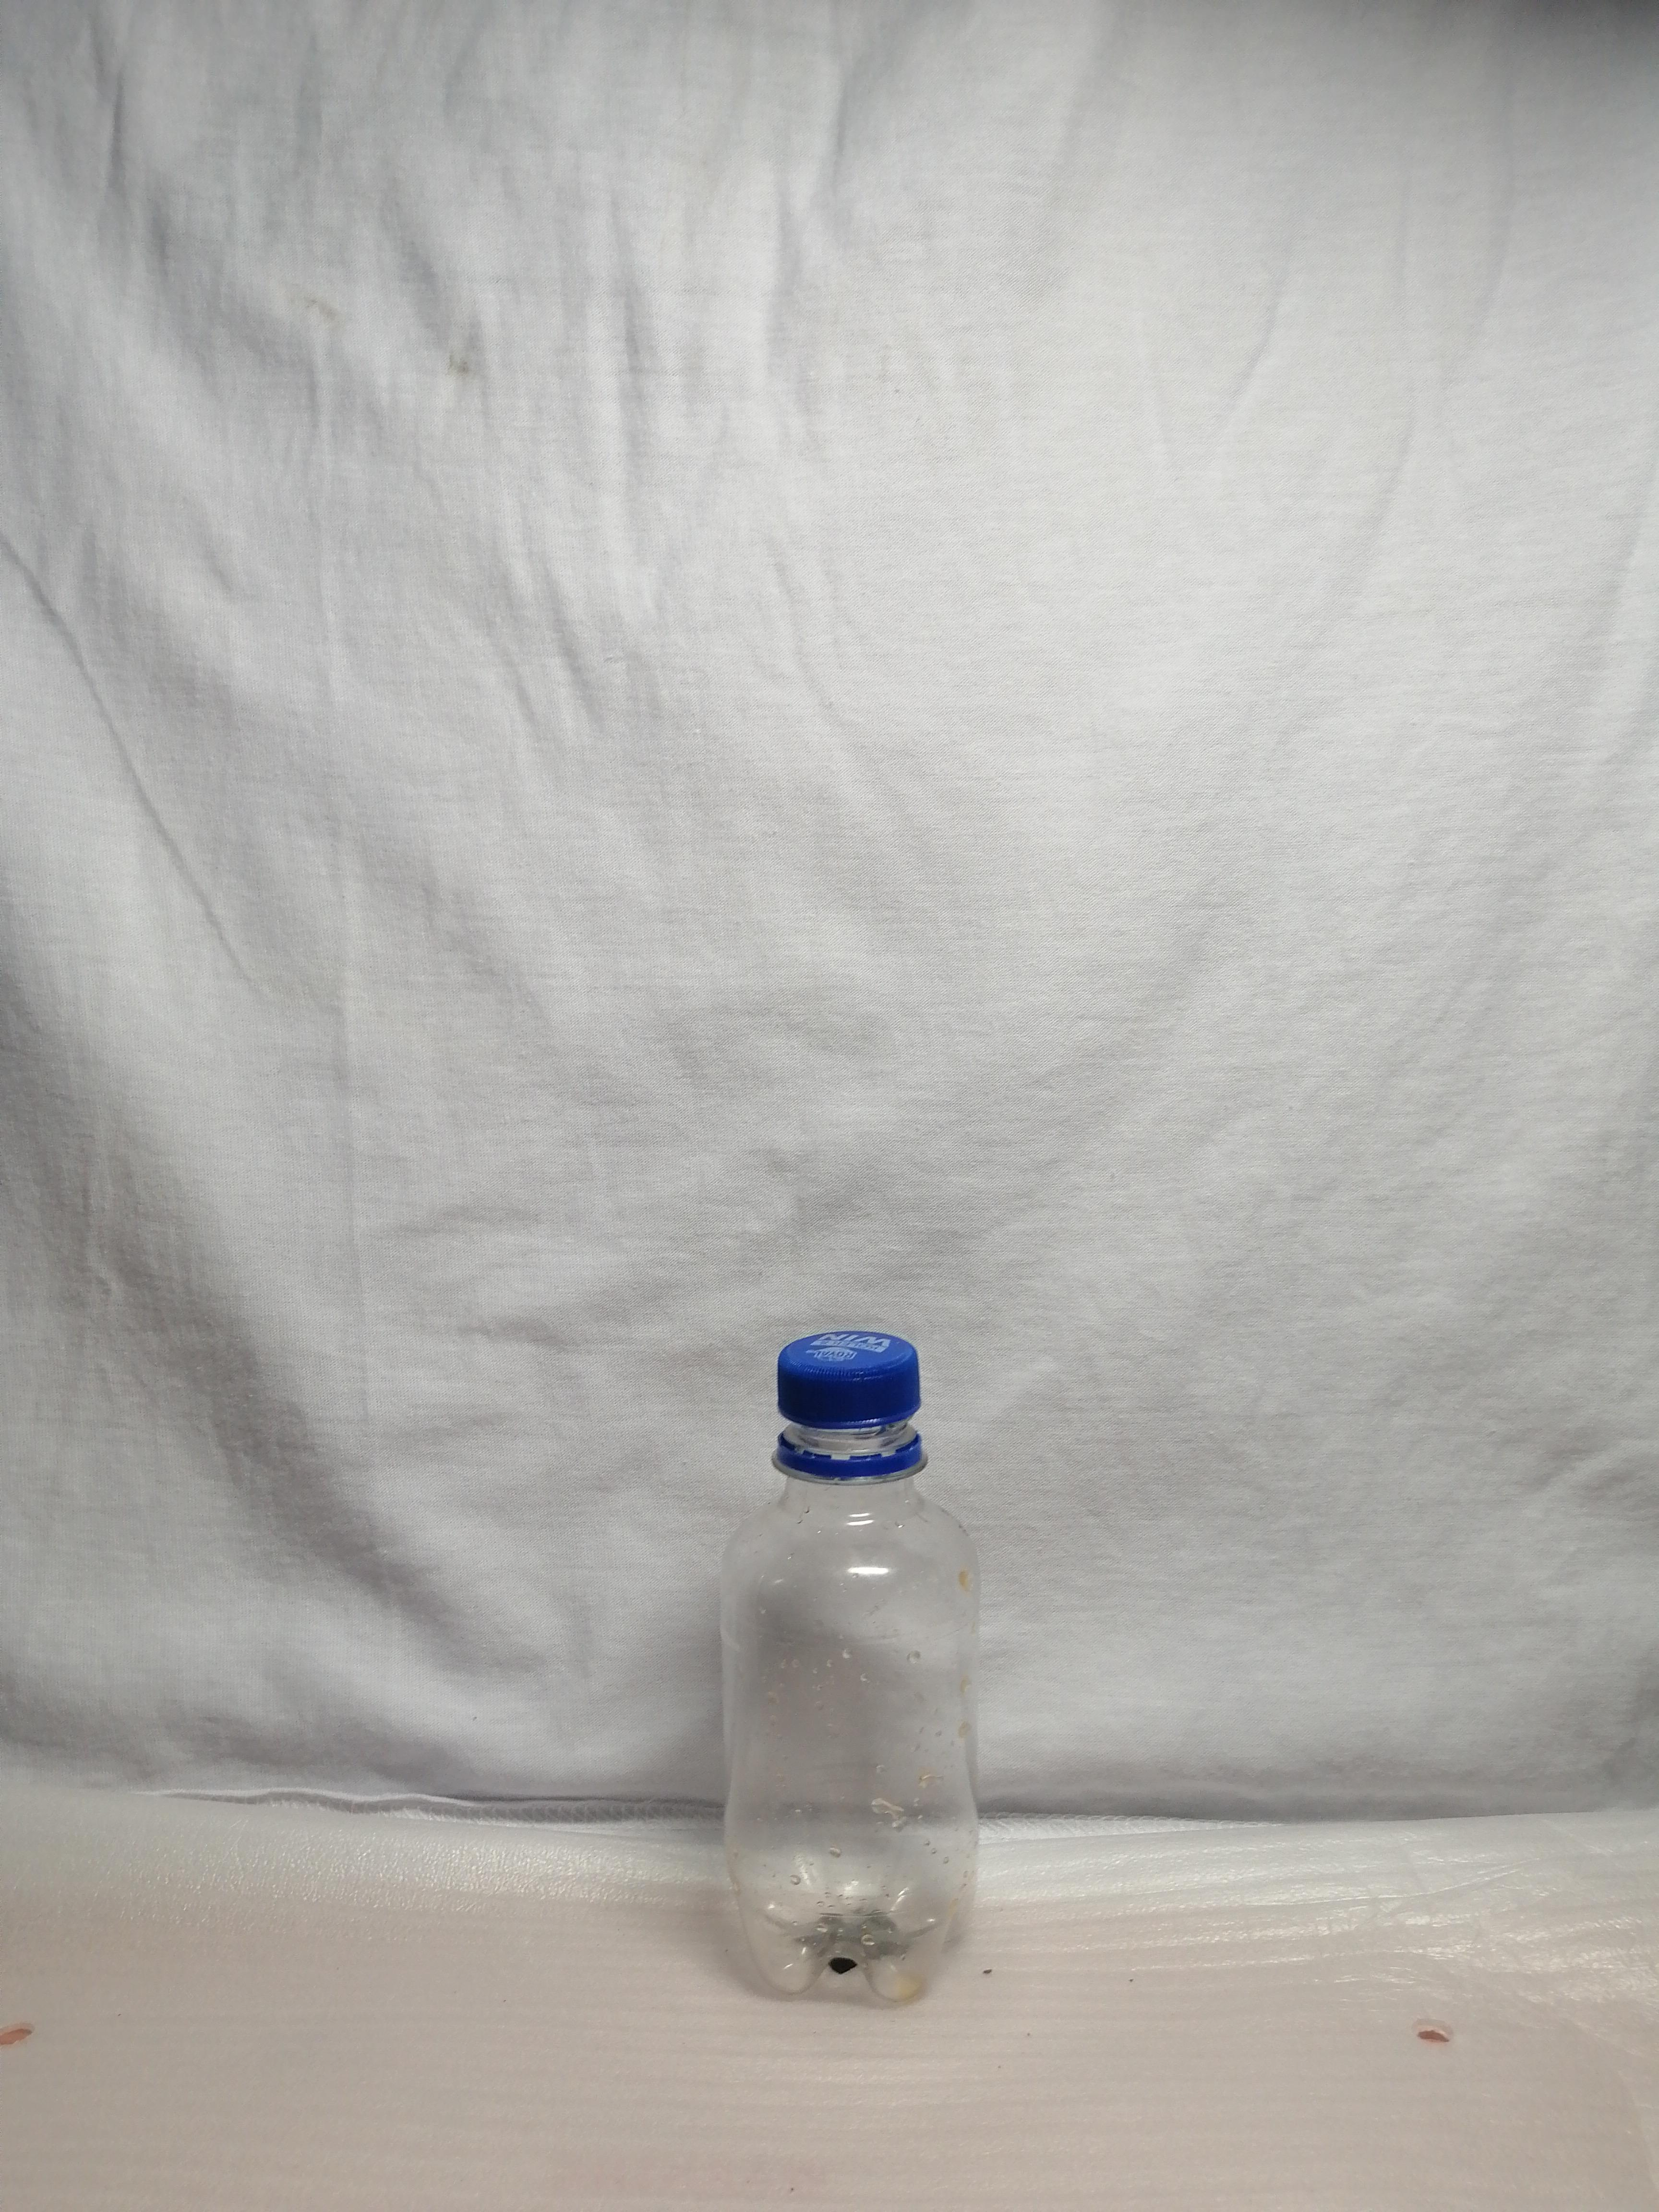plastic-bottle: (658, 1315, 1042, 2055)
